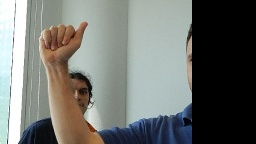Pugno: (36, 19, 90, 61)
